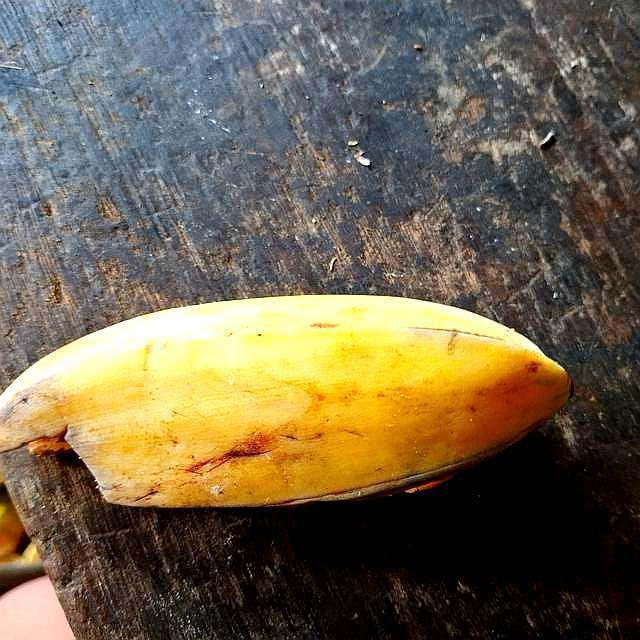Biodegradable: (1, 291, 563, 511)
